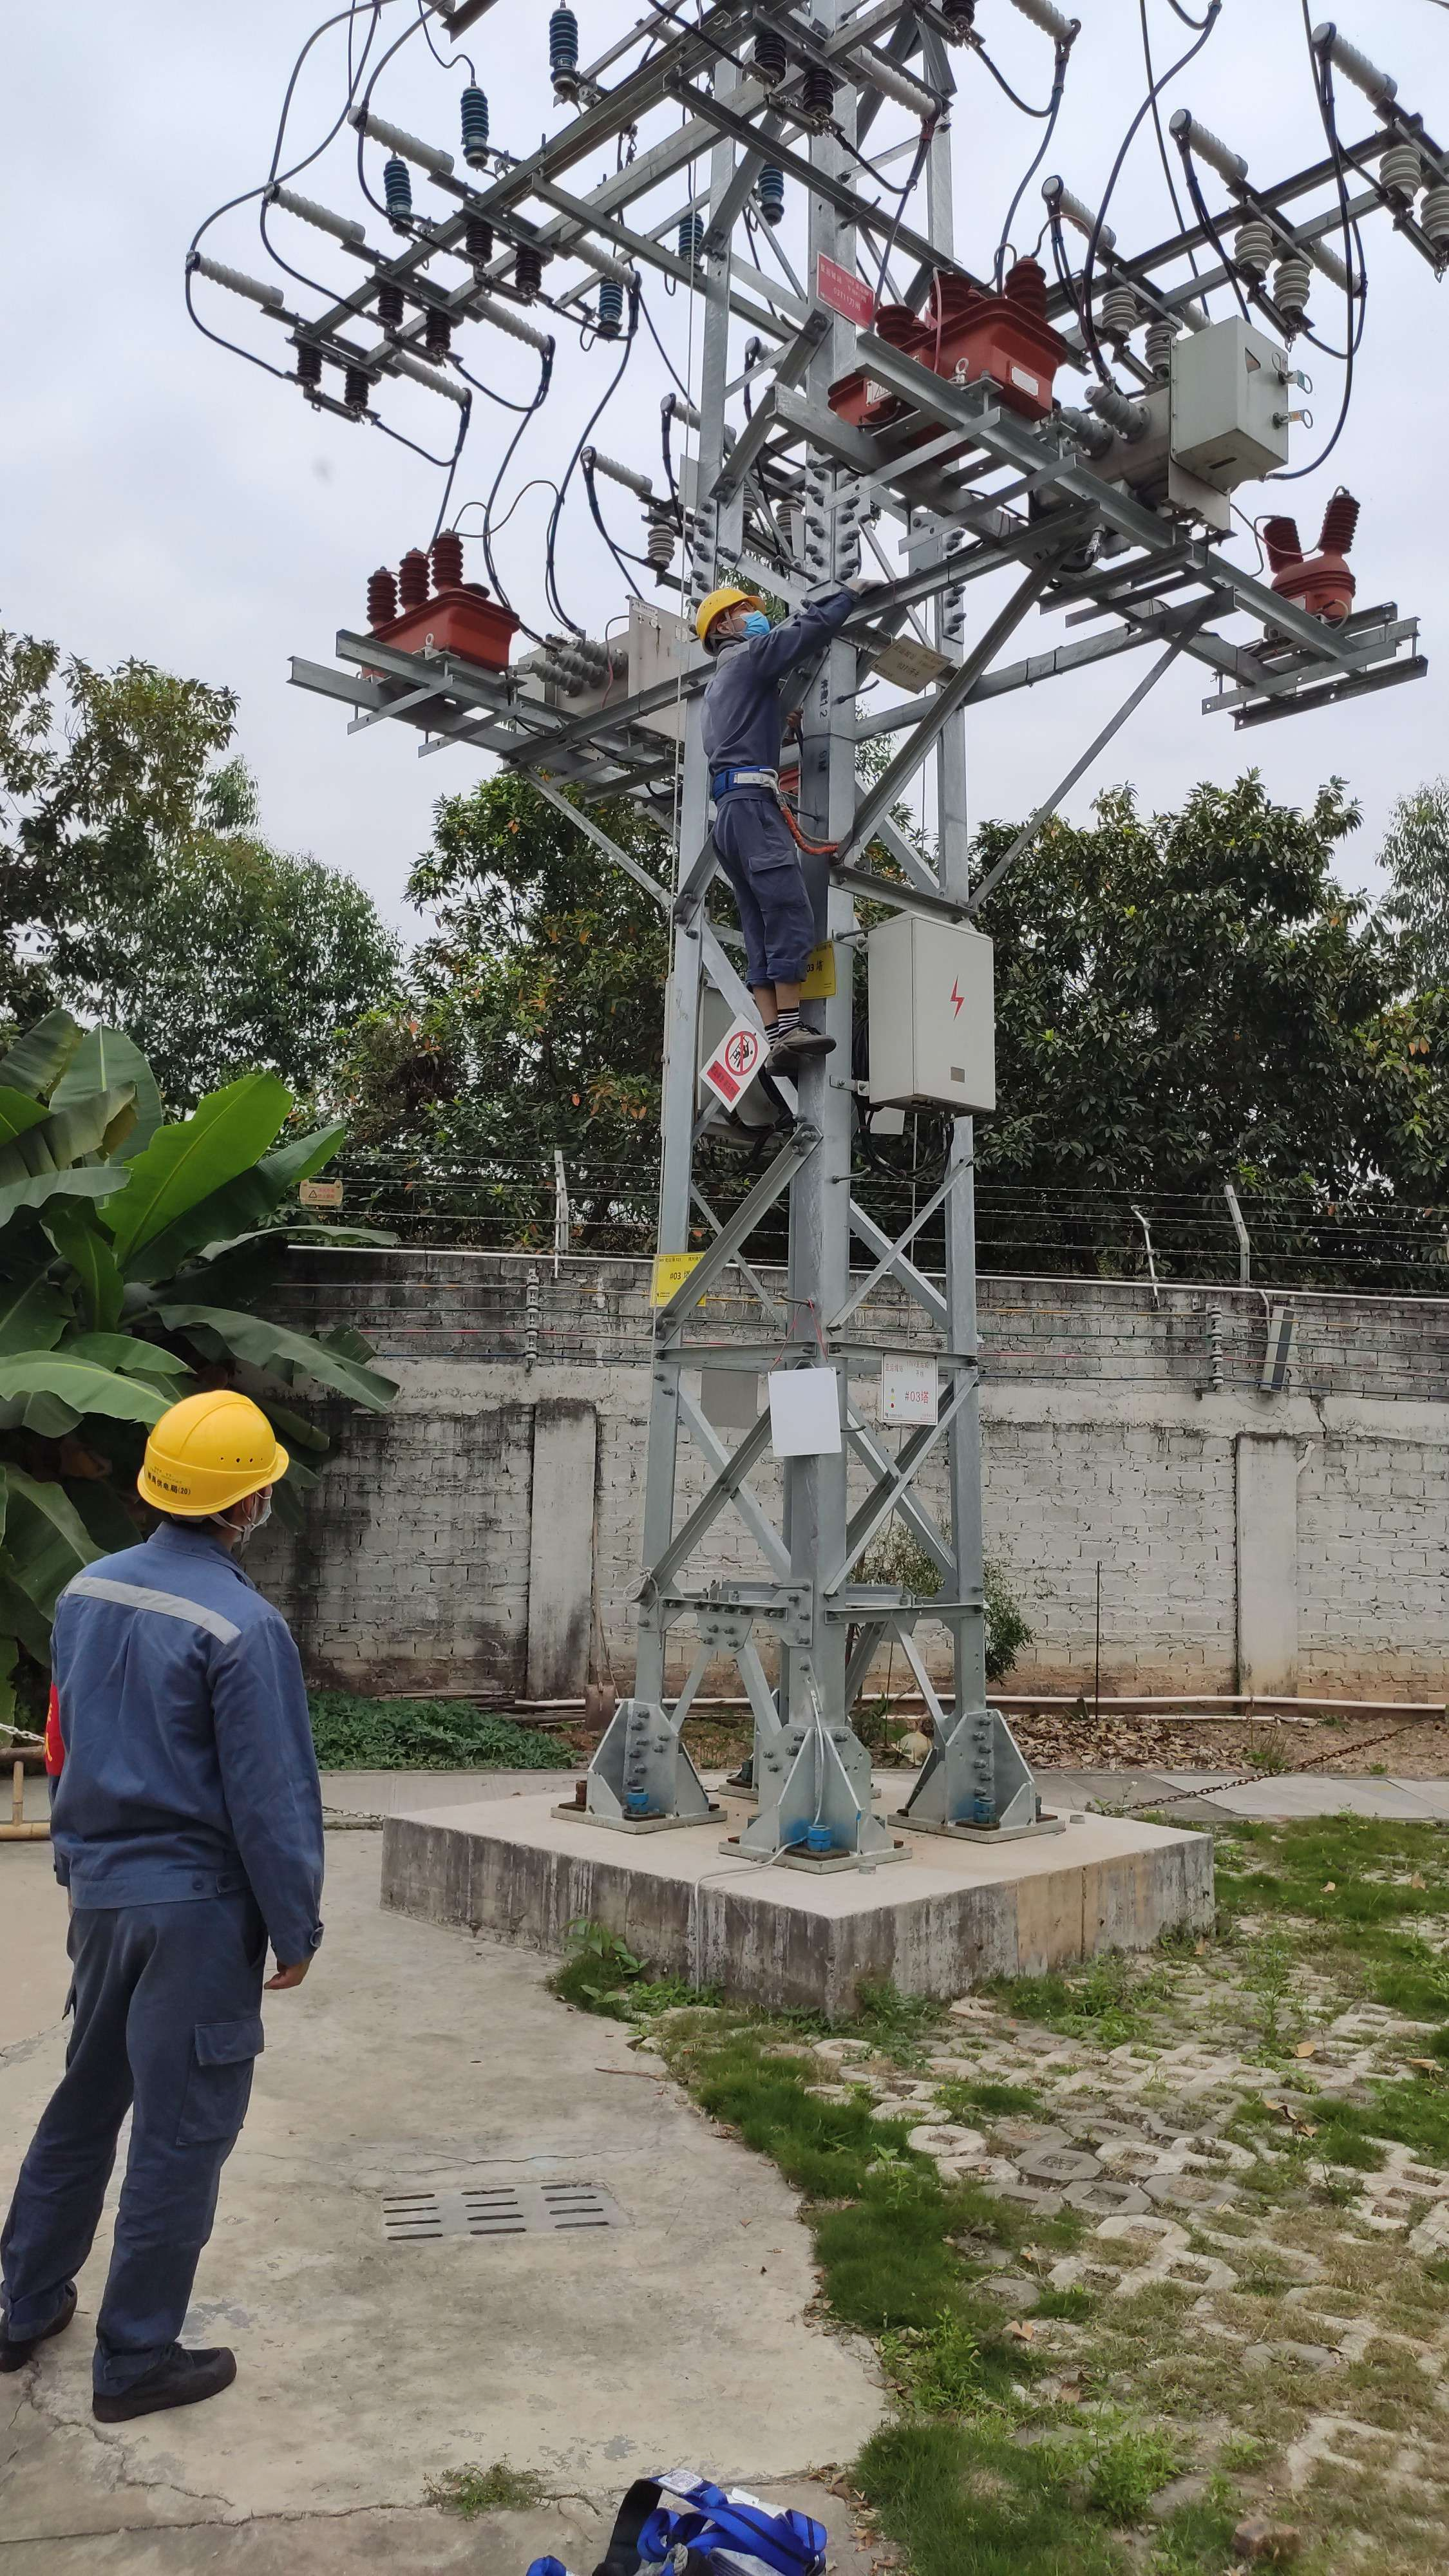downsuit: (5, 1932, 269, 2362), (709, 794, 839, 987)
upsuit: (35, 1527, 336, 1898), (695, 623, 826, 784)
wrongbottom: (748, 954, 812, 1049)
